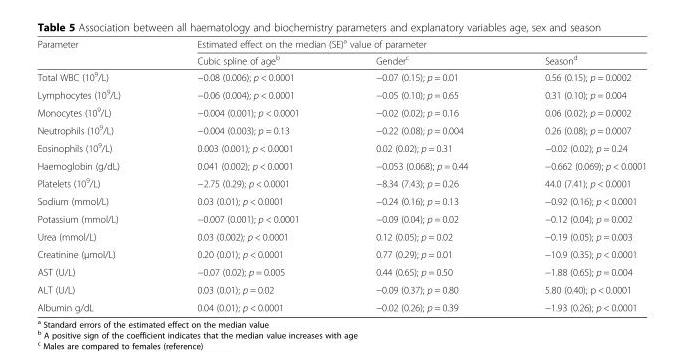table: (36, 36, 646, 312)
table column: (158, 36, 336, 312), (336, 36, 505, 312), (505, 36, 646, 312), (36, 36, 158, 312)
table column header: (36, 36, 646, 67)
table row: (36, 67, 646, 85), (36, 102, 646, 120), (36, 120, 646, 138), (36, 138, 646, 156), (36, 173, 646, 191), (36, 191, 646, 209), (36, 209, 646, 227), (36, 244, 646, 262), (36, 262, 646, 280), (36, 280, 646, 298), (36, 85, 646, 102), (36, 156, 646, 173), (36, 227, 646, 244), (36, 51, 646, 67), (36, 36, 646, 51), (36, 298, 646, 312)
table spanning cell: (158, 36, 646, 51), (36, 36, 158, 67)
